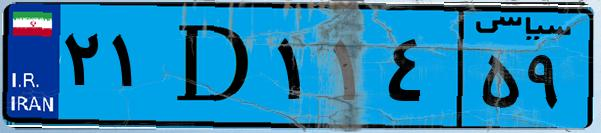1: (270, 28, 330, 110), (330, 28, 385, 110), (110, 28, 158, 98)
2: (57, 26, 110, 100)
4: (385, 28, 445, 110)
5: (475, 38, 525, 113)
9: (525, 38, 570, 115)
D: (158, 12, 270, 120)
